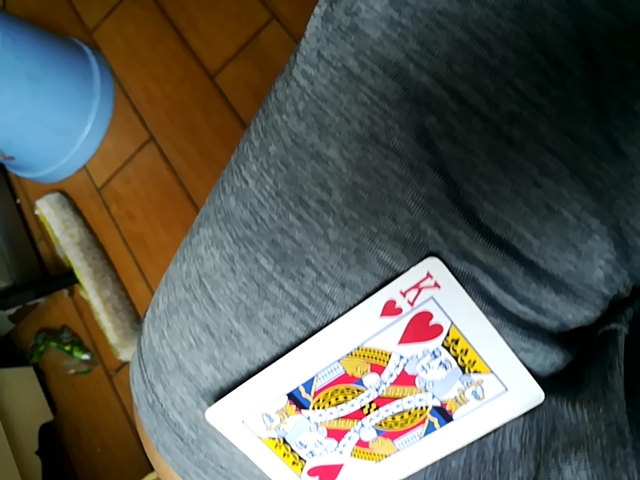hx k: (207, 254, 539, 479)
